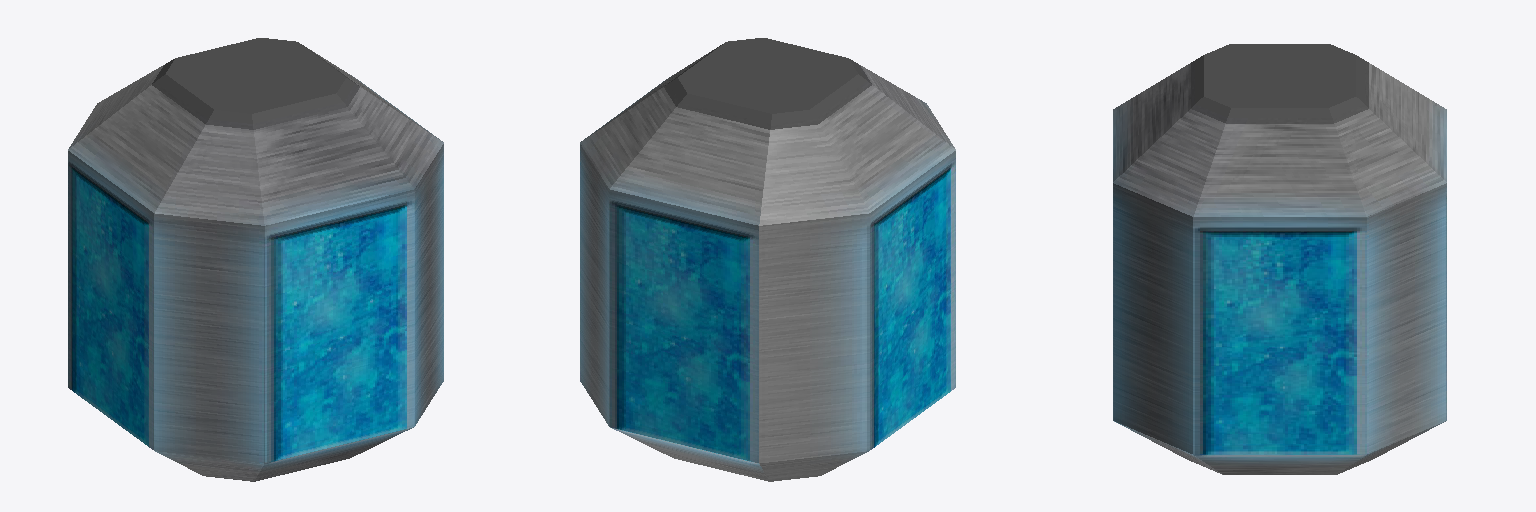
3 renders of one model, left to right at view 1: azimuth 30°, elevation 25°; view 2: azimuth 150°, elevation 25°; view 3: azimuth 270°, elevation 25°, orthographic.
Parts seen in each view (by area): view 1: recycler_tank; view 2: recycler_tank; view 3: recycler_tank.
Part boxes in pixels (x1,y1,x2,y2): recycler_tank: (68, 38, 443, 481); recycler_tank: (580, 38, 955, 481); recycler_tank: (1113, 44, 1446, 474).
Size of the model in its own units: 32.39 by 38.49 by 32.39.
Materials: 1 (1 with a texture image).